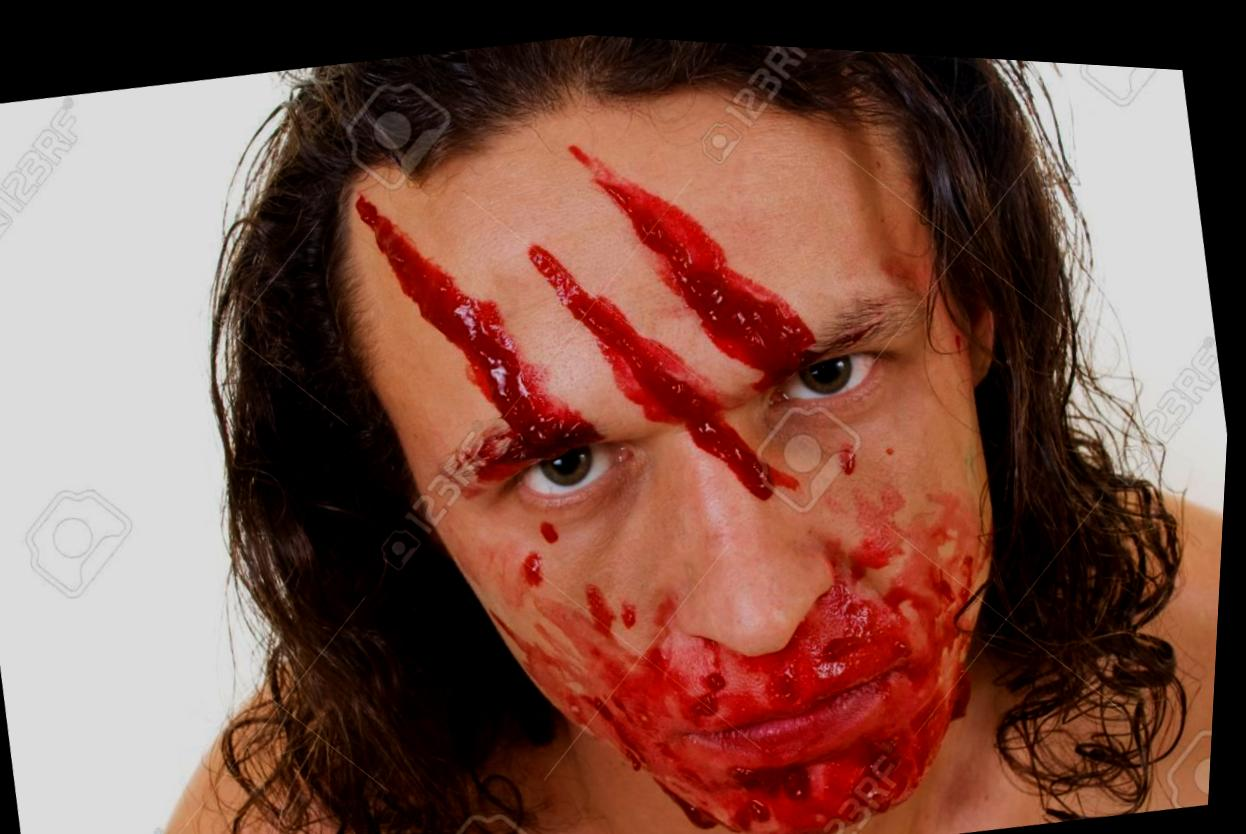Fire: (501, 433, 997, 831), (357, 190, 601, 470), (531, 237, 778, 487), (605, 159, 818, 365), (593, 577, 621, 628), (528, 545, 550, 577), (545, 514, 564, 534), (630, 599, 641, 613)
